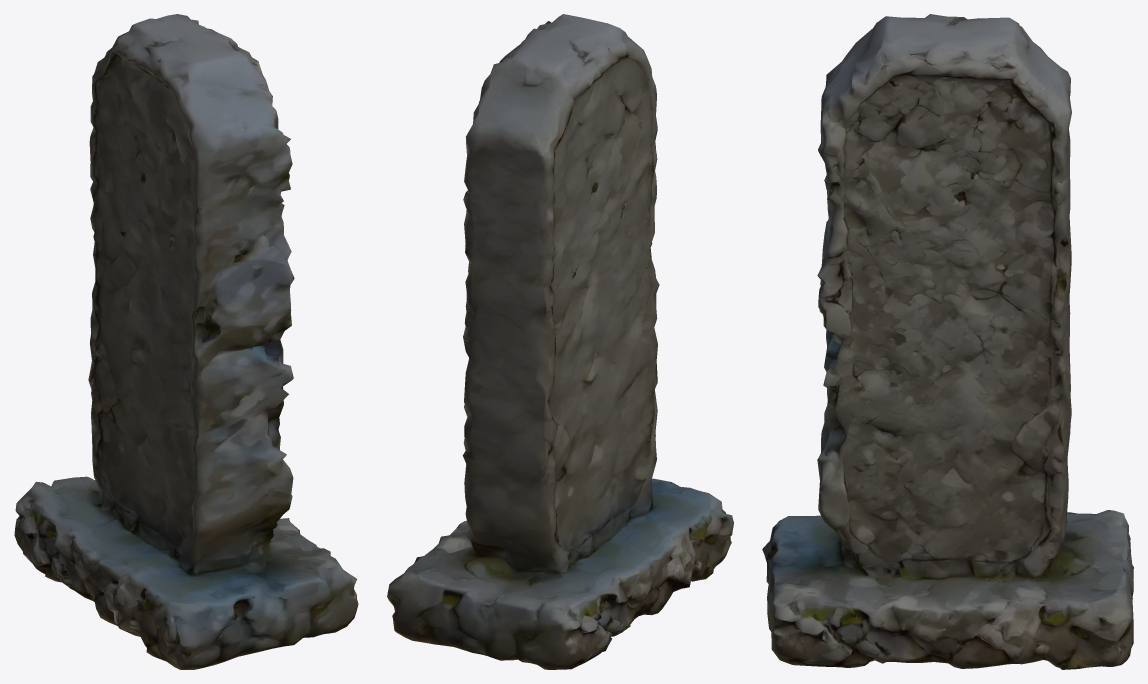
Rendered from stele.glb.
3 views of the same model, side by side, from view 1: azimuth 30°, elevation 25°; view 2: azimuth 150°, elevation 25°; view 3: azimuth 270°, elevation 25° (orthographic). The views are drawn at different scales.
Visible parts, largest first — view 1: tripo_node_8eb655f9-49e5-4efd-a1a3-0ab12acfdfdb; view 2: tripo_node_8eb655f9-49e5-4efd-a1a3-0ab12acfdfdb; view 3: tripo_node_8eb655f9-49e5-4efd-a1a3-0ab12acfdfdb.
Boxes of the visible parts, x1,y1,x2,y2 form: tripo_node_8eb655f9-49e5-4efd-a1a3-0ab12acfdfdb: [14, 14, 358, 669]; tripo_node_8eb655f9-49e5-4efd-a1a3-0ab12acfdfdb: [387, 14, 733, 669]; tripo_node_8eb655f9-49e5-4efd-a1a3-0ab12acfdfdb: [762, 14, 1133, 669].
Bounding box in the file's own units: 0.3747 × 1 × 0.5639.
1 material, 1 textured.
